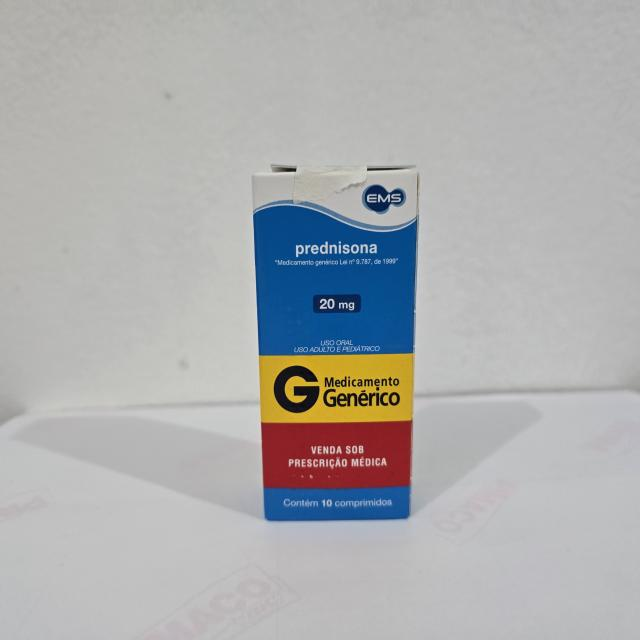prednisona: (248, 159, 424, 525)
